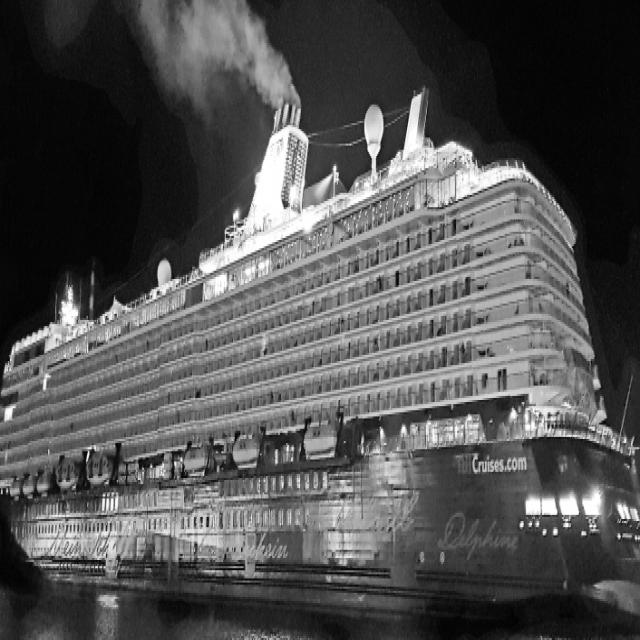cruises: (1, 77, 640, 640)
